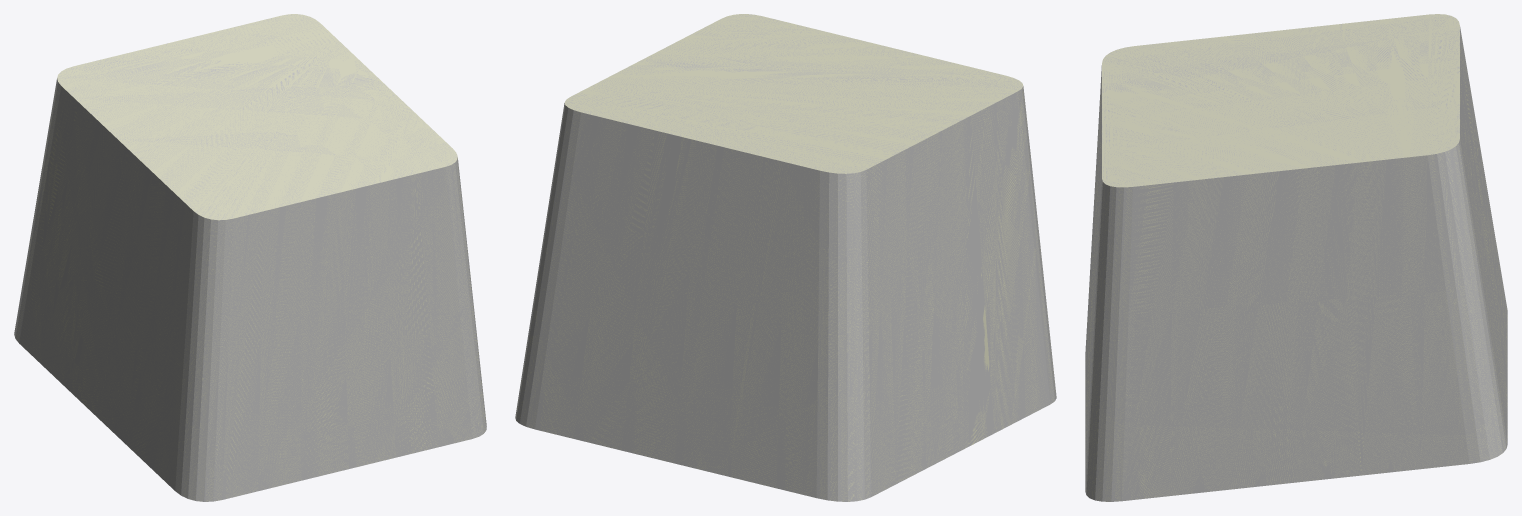
Rendered from original-26.obj.
3 views of the same model, side by side, from view 1: azimuth 30°, elevation 25°; view 2: azimuth 150°, elevation 25°; view 3: azimuth 270°, elevation 25° (orthographic). The views are drawn at different scales.
Visible parts, largest first — view 1: mesh26/mesh26-geometry#mesh26-geometry; view 2: mesh26/mesh26-geometry#mesh26-geometry; view 3: mesh26/mesh26-geometry#mesh26-geometry.
Part boxes in pixels (x1,y1,x2,y2): mesh26/mesh26-geometry#mesh26-geometry: [14, 14, 486, 501]; mesh26/mesh26-geometry#mesh26-geometry: [515, 14, 1056, 501]; mesh26/mesh26-geometry#mesh26-geometry: [1085, 14, 1507, 501].
Bounding box in the file's own units: 0.0633 × 0.0606 × 0.0681.
